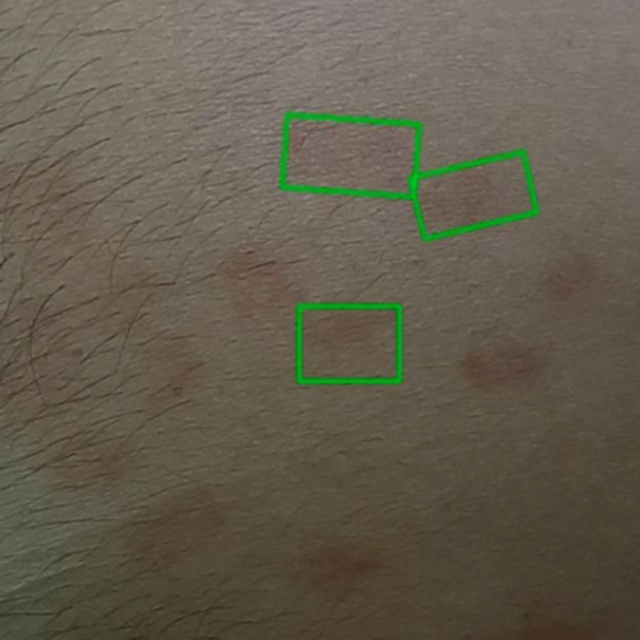Tinea Corporis: (281, 114, 418, 196), (409, 151, 536, 238), (299, 306, 399, 381)
